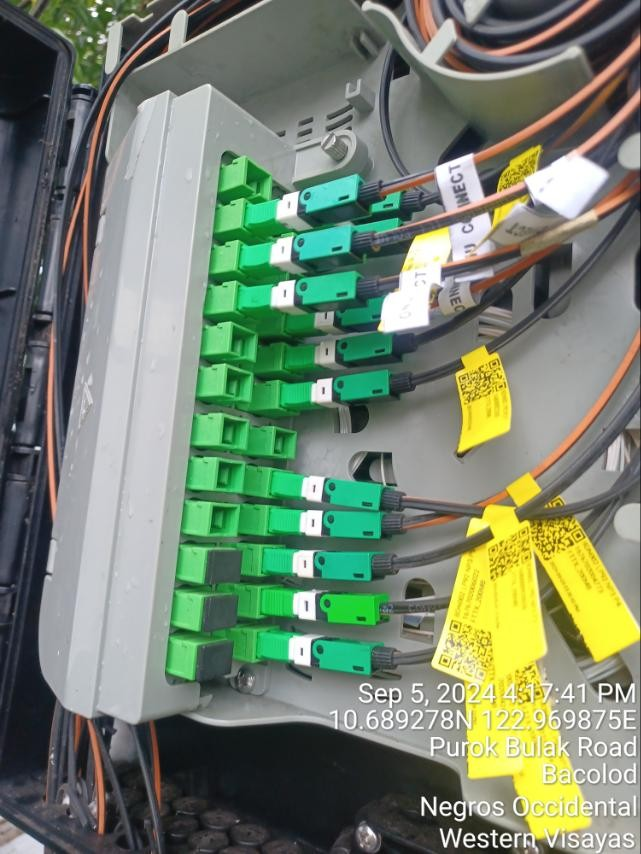no dust cap: (245, 156, 272, 203), (230, 323, 258, 362), (225, 365, 253, 402), (215, 460, 245, 494), (220, 415, 249, 450), (209, 504, 240, 536), (286, 272, 318, 301), (272, 427, 297, 459)
occupied: (245, 171, 385, 242), (242, 219, 377, 280), (238, 267, 381, 320), (258, 628, 397, 682), (269, 469, 414, 517), (283, 366, 417, 414), (286, 328, 416, 377), (296, 215, 421, 265), (287, 290, 412, 338), (296, 185, 422, 228), (261, 547, 397, 585), (262, 588, 391, 627), (269, 507, 405, 543)
vacant: (198, 641, 233, 683), (204, 596, 239, 633), (208, 551, 243, 584)
